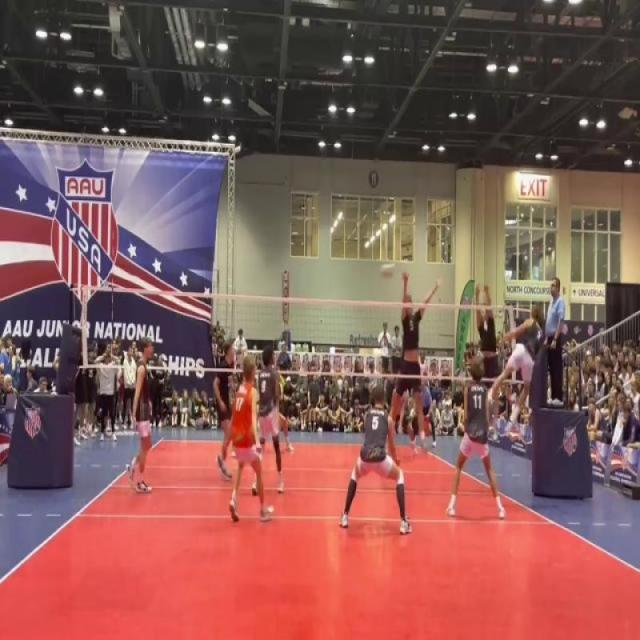volleyball: (380, 262, 392, 278)
